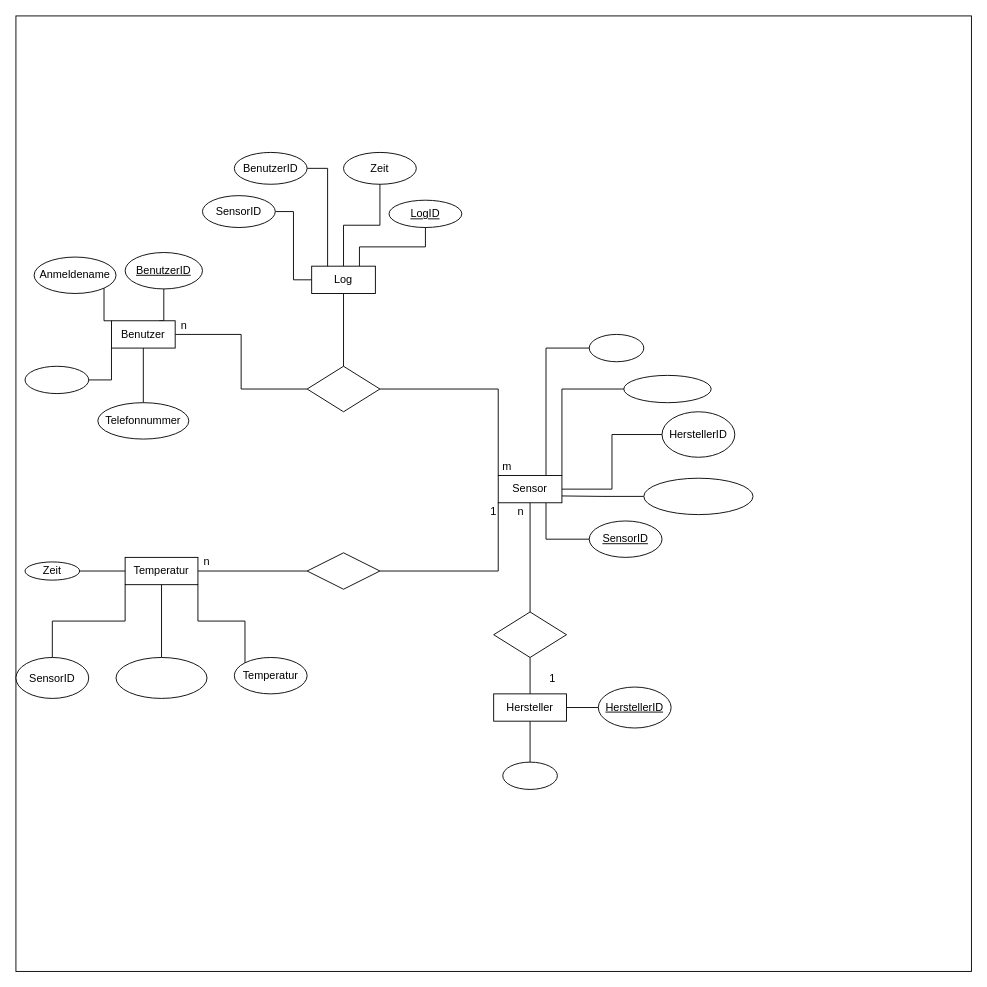
The diagram is 987 pixels wide and 987 high, and some of its shapes have lost their labels. Each missing label, with the centre of its shape:
Adresse: point 616,348
bearbeitet: point 343,388
MaximalTemperatur: point 698,496
misst: point 343,570
Name: point 529,775
Passwort: point 56,379
Serverschrank: point 667,388
stellt her: point 529,634
TemperaturID: point 161,677
